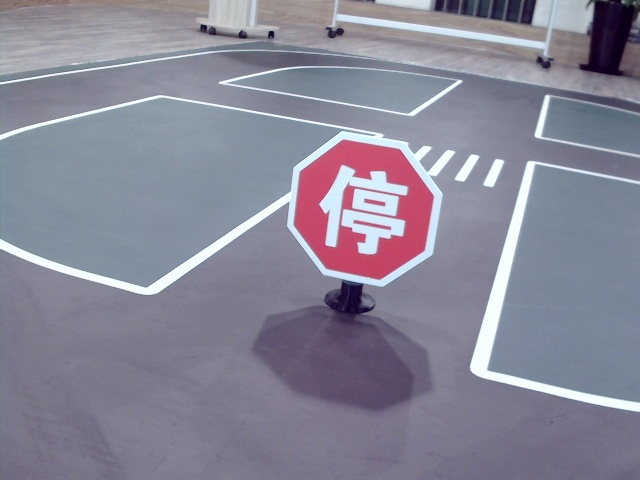stop: (319, 159, 407, 251)
